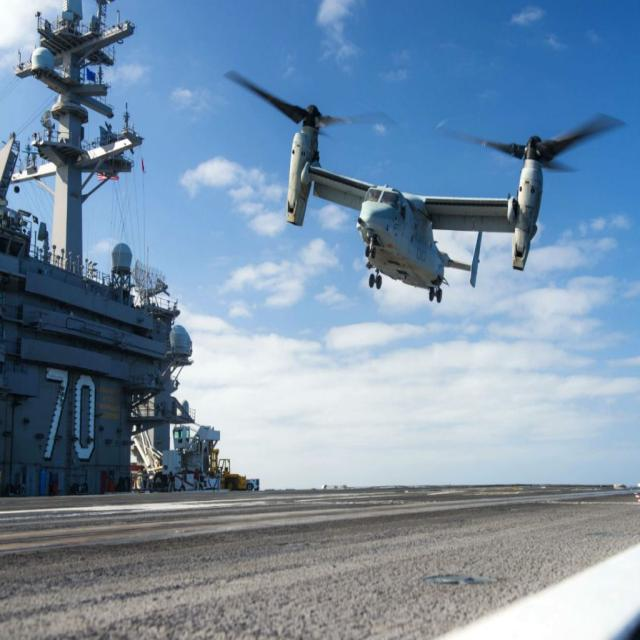MIL_Plane: (223, 68, 629, 303)
